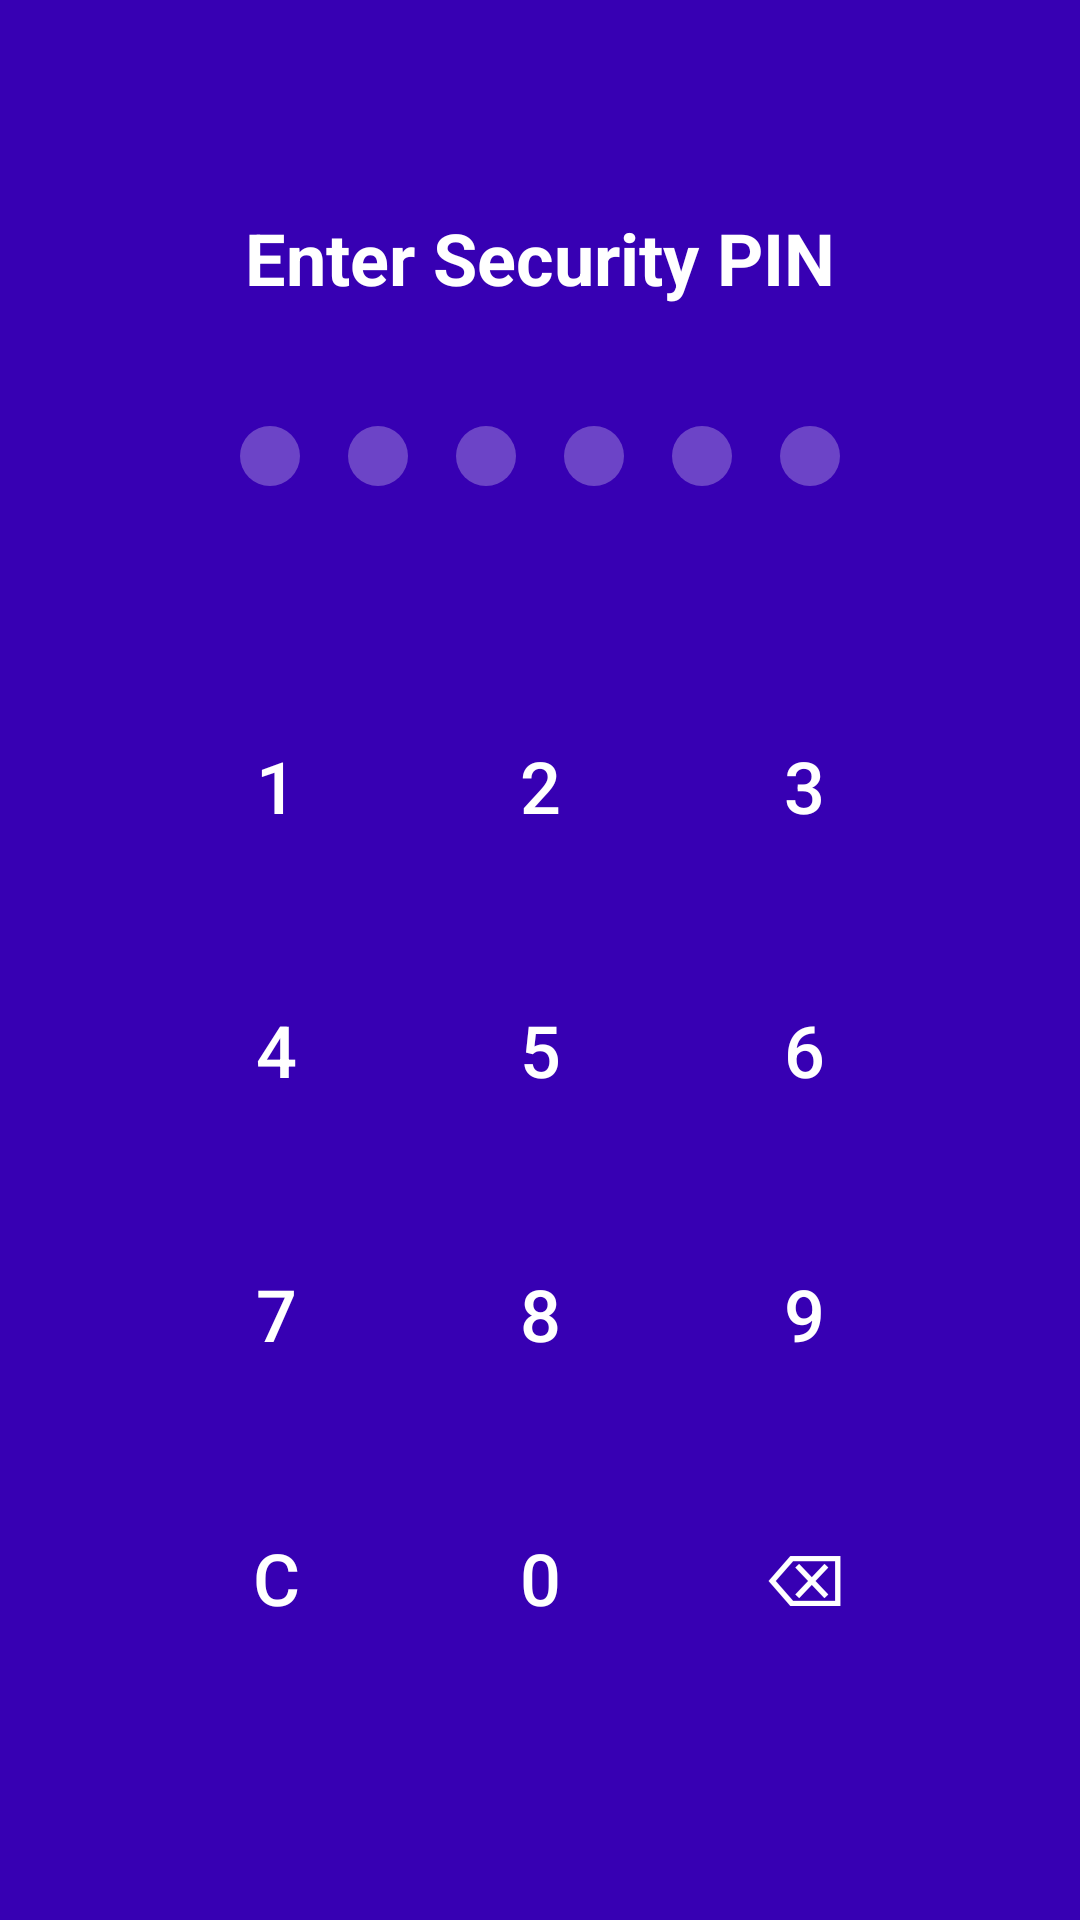

Named icons in this screenshot (1080×1920) and their bounding boxes, (x1, y1, x2, y2):
pin dot off: (240, 426, 300, 486), (348, 426, 408, 486), (456, 426, 516, 486), (564, 426, 624, 486), (672, 426, 732, 486), (780, 426, 840, 486)
